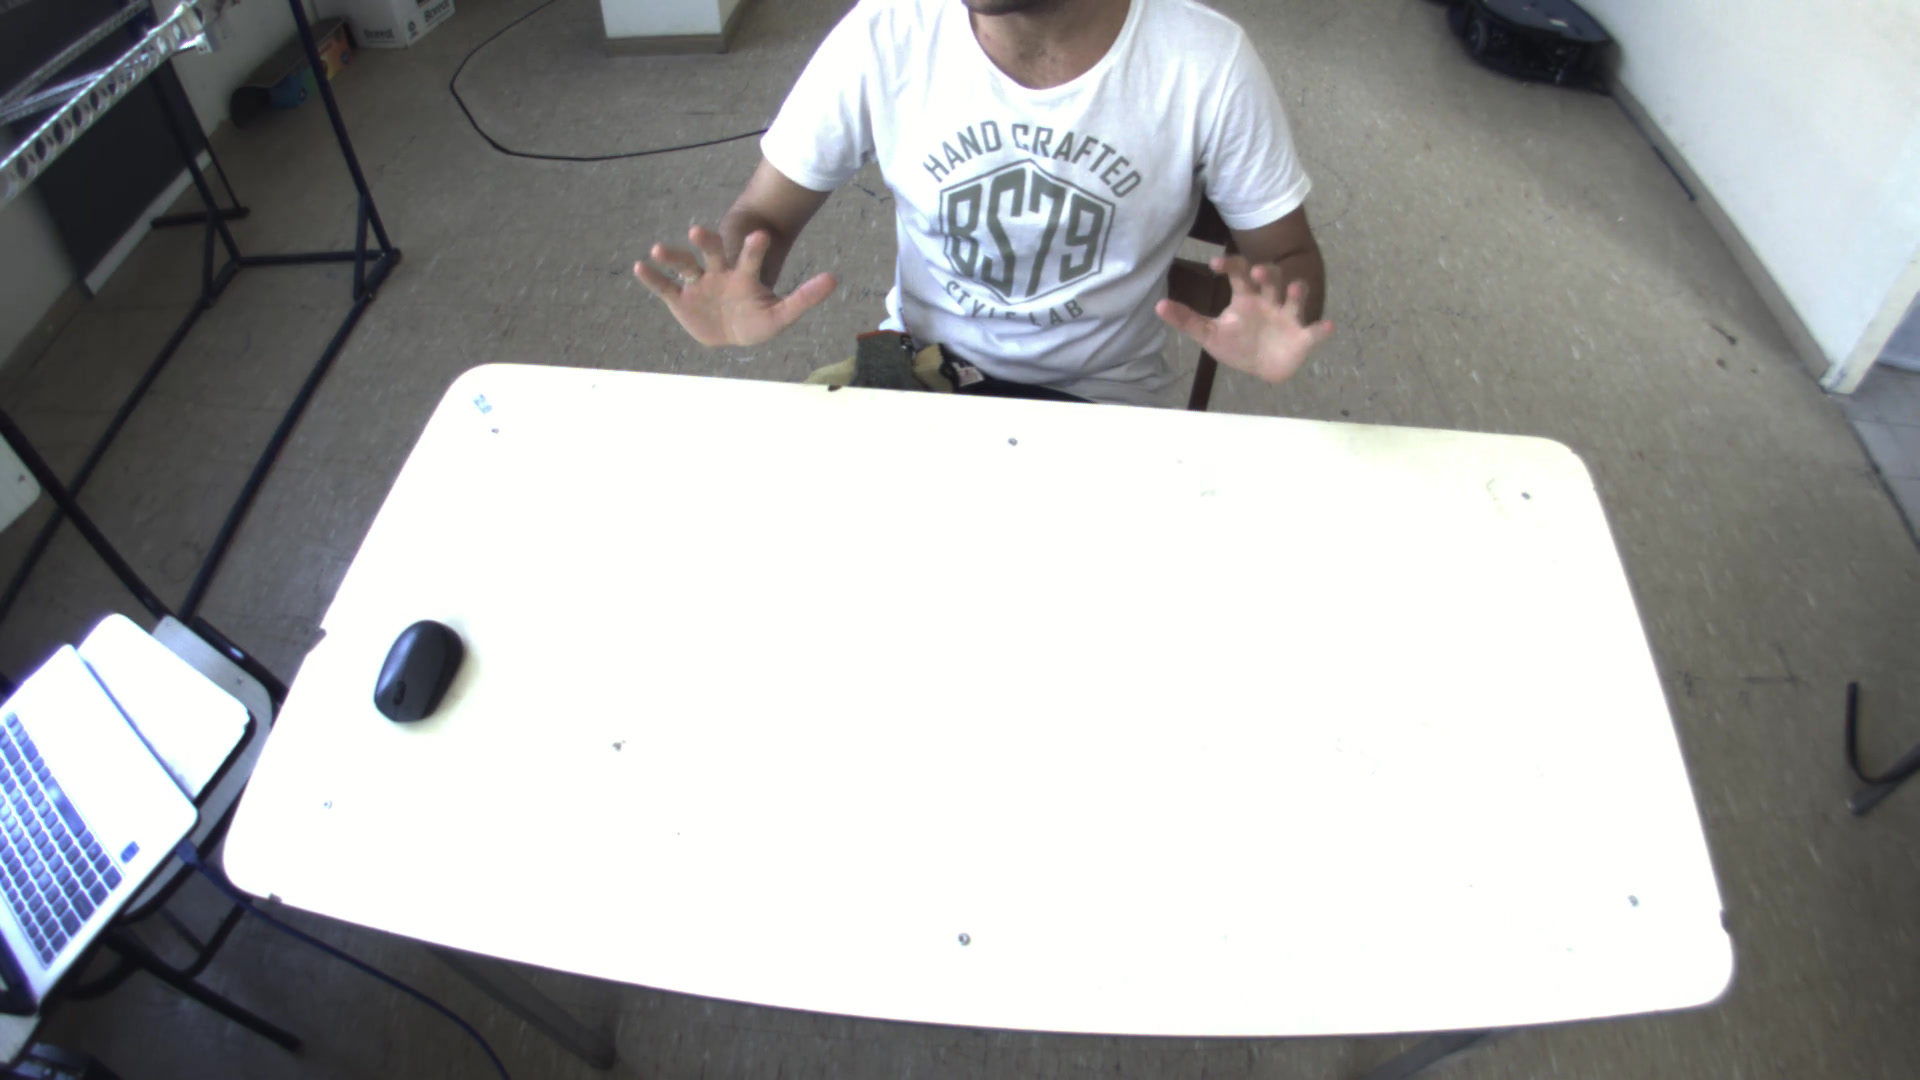hand: (617, 208, 844, 353), (1151, 243, 1354, 385)
